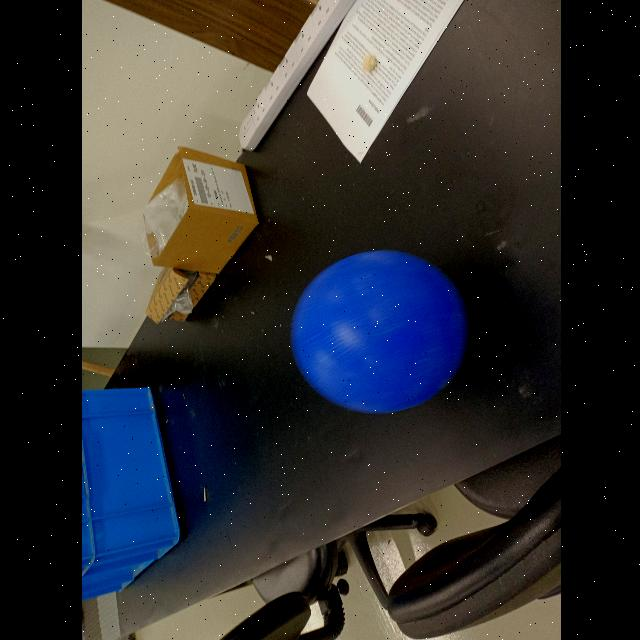B: (290, 251, 468, 414)
